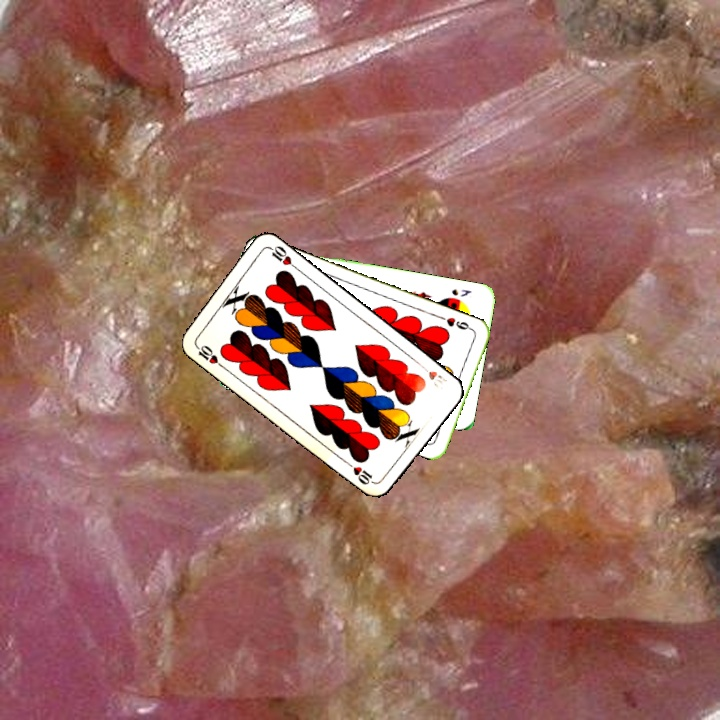H10: (416, 360, 450, 392), (191, 341, 226, 370)
H9: (442, 313, 475, 333)
SK: (447, 285, 474, 299)
